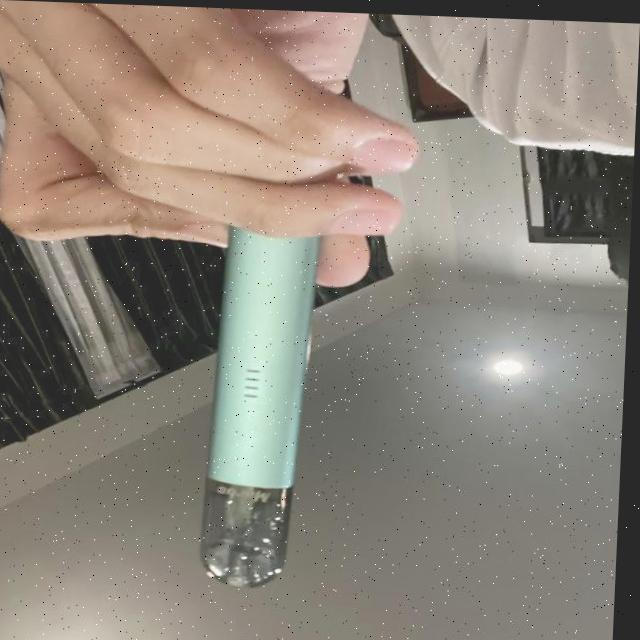vape: (202, 226, 320, 588)
